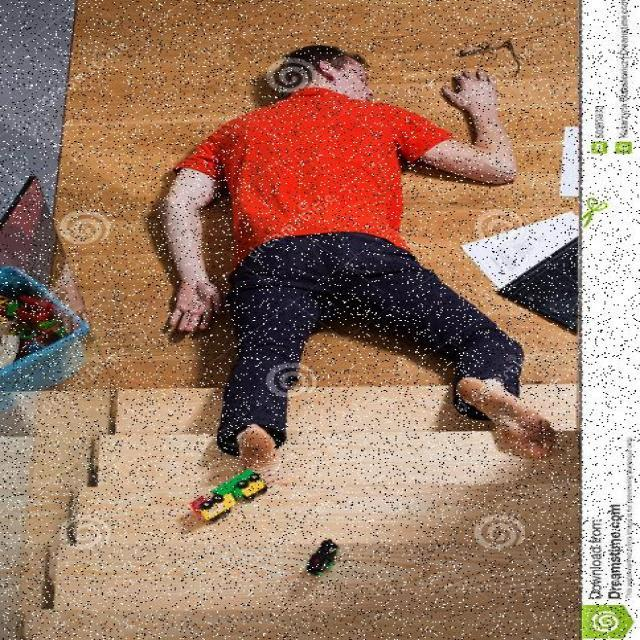fall: (173, 50, 550, 458)
